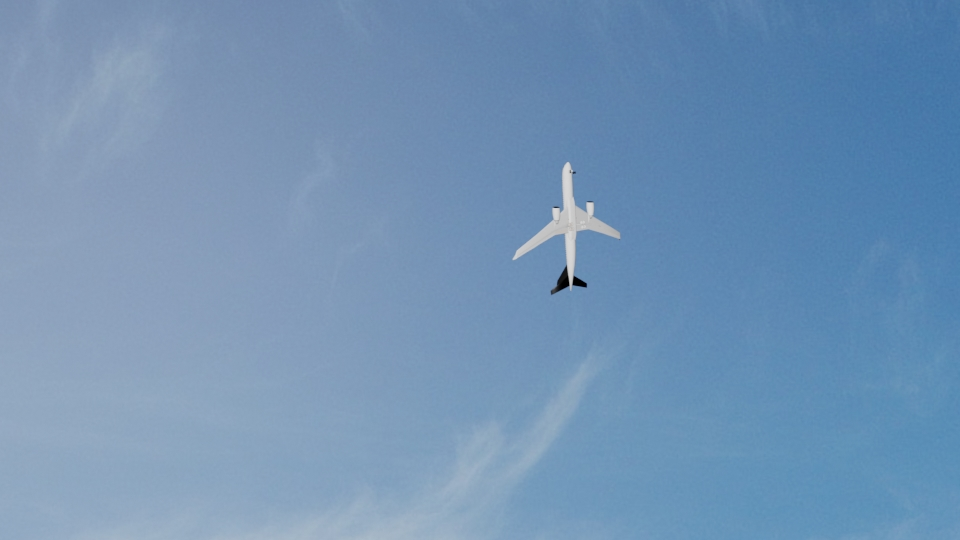plane: (510, 157, 621, 294)
